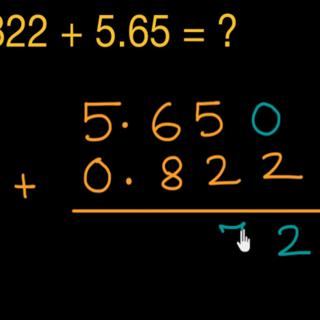.: (122, 171, 134, 189), (120, 119, 131, 133), (117, 38, 126, 51)
0: (249, 98, 285, 141), (79, 154, 114, 197)
2: (205, 153, 249, 196), (256, 148, 305, 184), (272, 219, 313, 261), (5, 9, 28, 51), (27, 11, 51, 51)
5: (77, 98, 120, 145), (192, 96, 224, 141), (148, 11, 173, 52), (92, 9, 115, 50)
6: (146, 93, 182, 145), (128, 12, 149, 52)
8: (156, 155, 191, 193)
